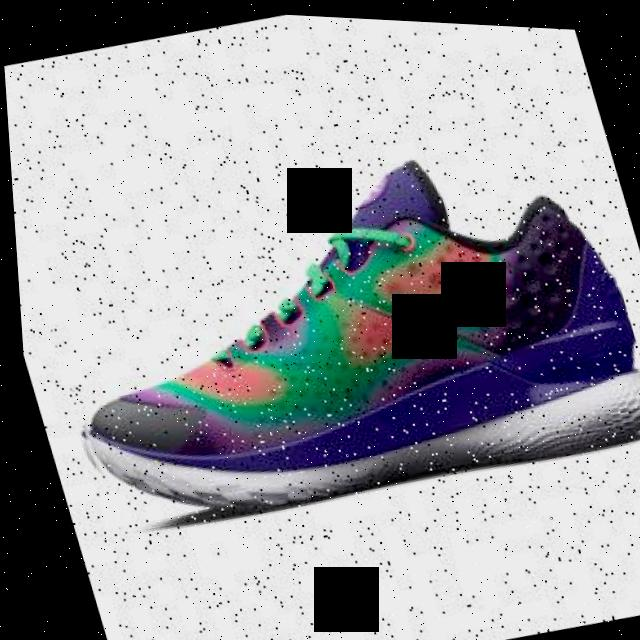shoe: (7, 100, 640, 558)
